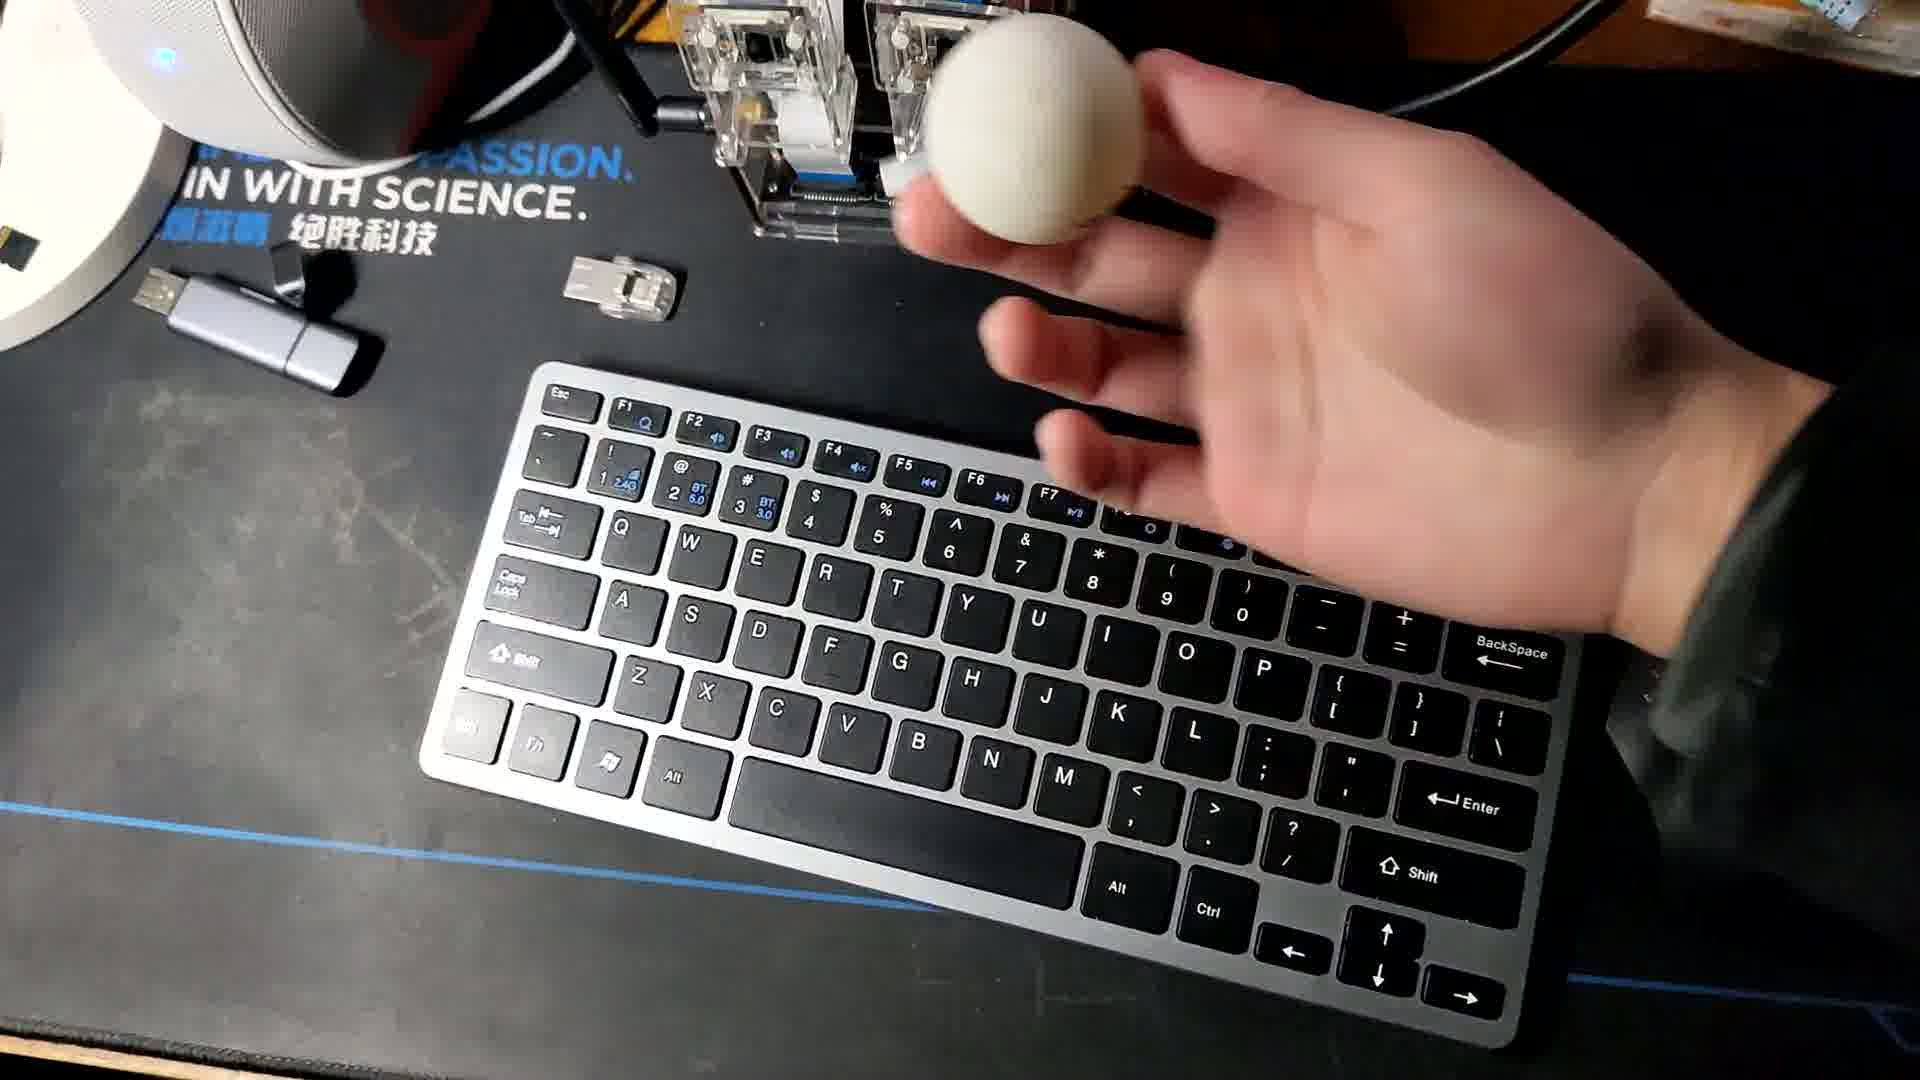Ball: (918, 11, 1137, 237)
